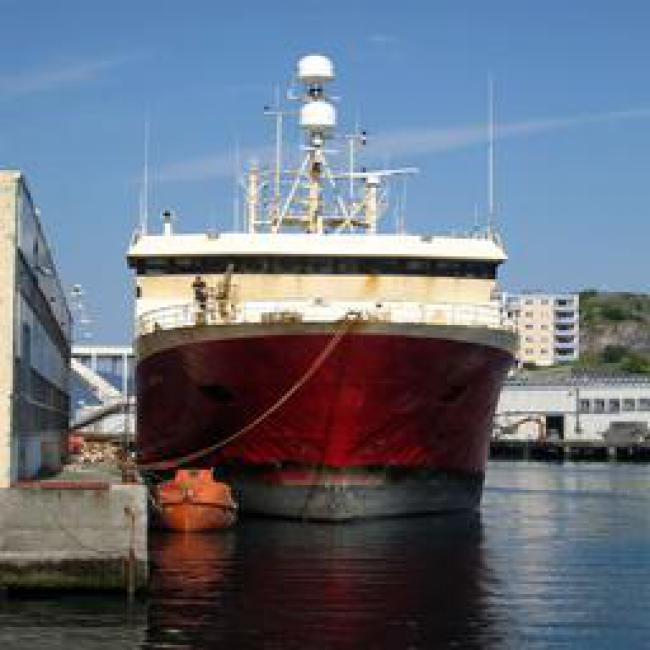Ship: (101, 220, 523, 512)
